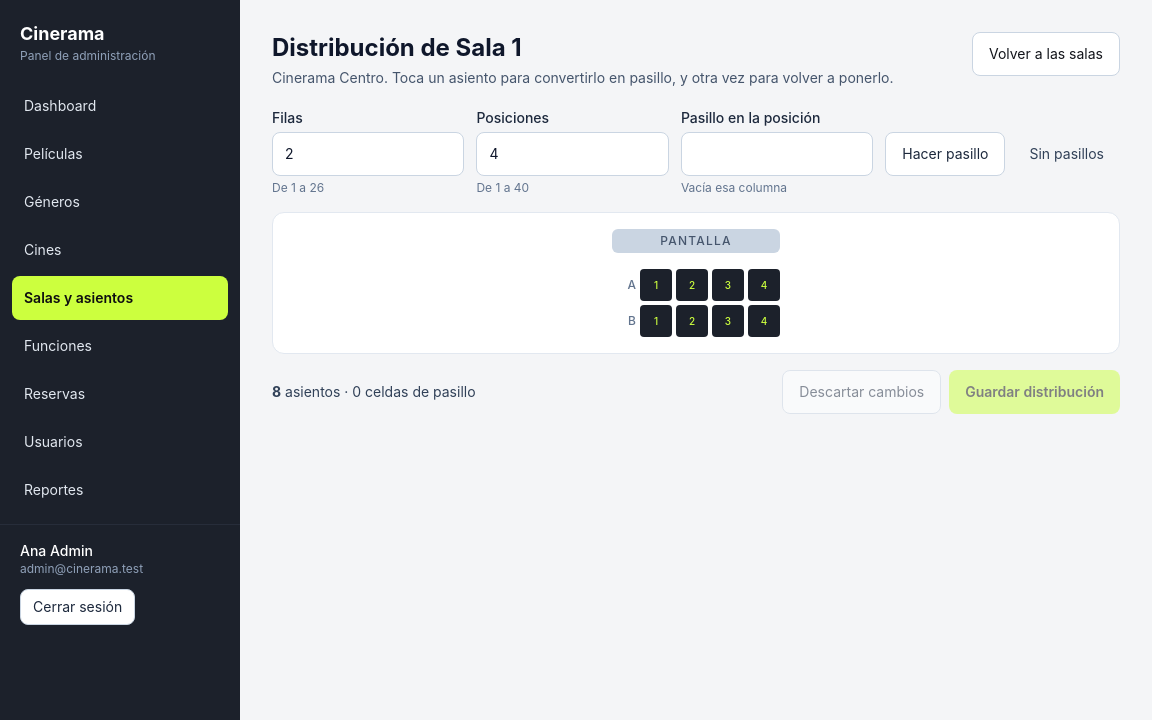
Test: Distribución de asientos › si la API rechaza el cambio (409) avisa y conserva lo editado
Click the cell named "A2: asiento".
click(692, 285)  # box [676,269,708,301]
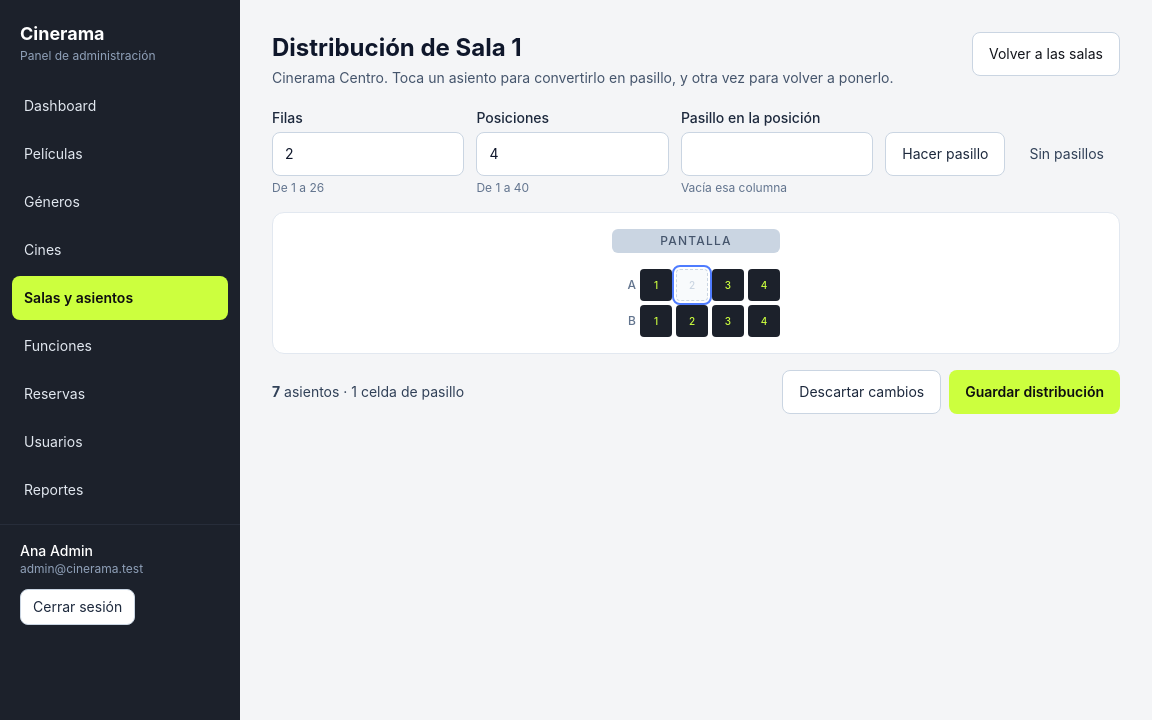
Click the button "Guardar distribución".
click(1035, 392)  # box [949,370,1120,414]
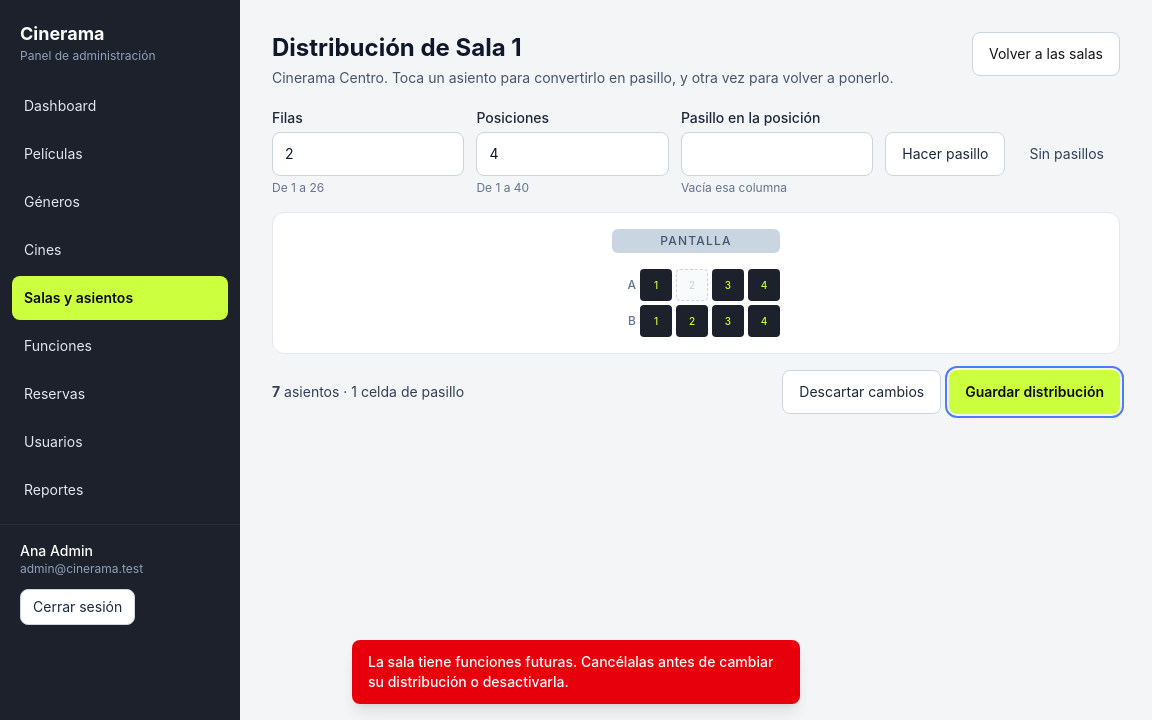
expect the cell named "A2: pasillo" is shown: met, box [676,269,708,301]
expect the text "La sala tiene funciones futuras" is shown: met, box [368,653,773,690]
